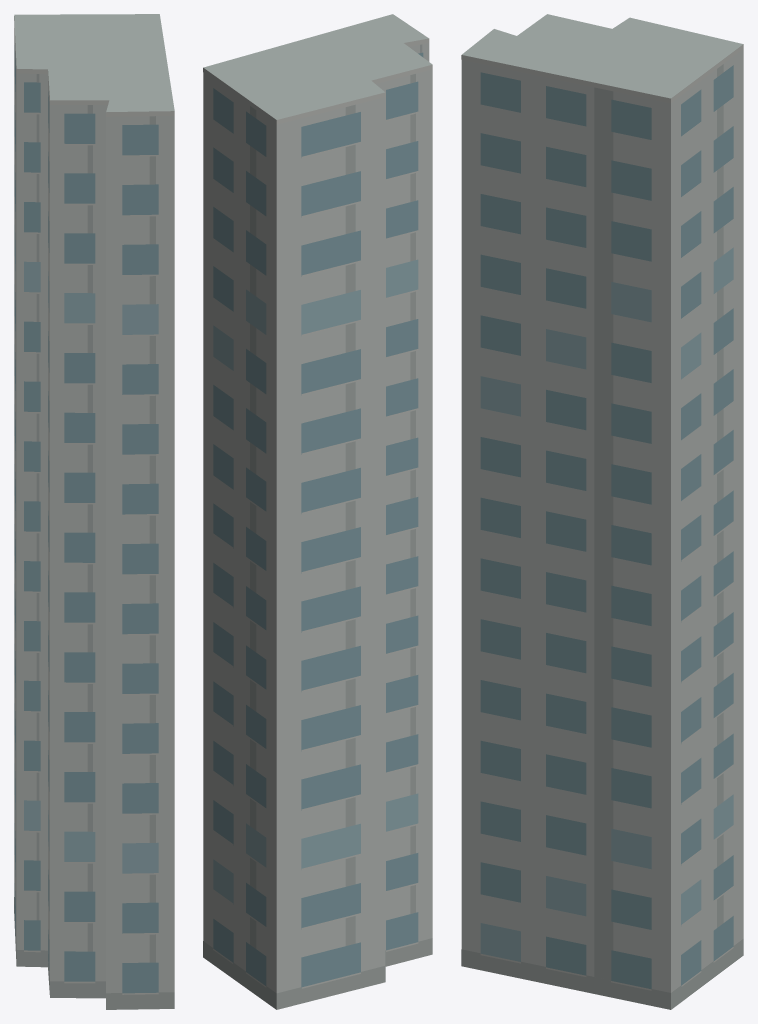
The model's file is survey-upis-32742575.glb.
3 views of the same model, side by side, from view 1: azimuth 30°, elevation 25°; view 2: azimuth 150°, elevation 25°; view 3: azimuth 270°, elevation 25° (orthographic). The views are drawn at different scales.
Parts seen in each view (by area): view 1: survey-upis-32742575.tmp; view 2: survey-upis-32742575.tmp; view 3: survey-upis-32742575.tmp.
Part boxes in pixels (left/top/right/bottom): survey-upis-32742575.tmp: left=14, top=14, right=174, bottom=1009; survey-upis-32742575.tmp: left=203, top=14, right=432, bottom=1009; survey-upis-32742575.tmp: left=461, top=14, right=743, bottom=1009.
Size of the model in its own units: 9.11 by 45.75 by 12.84.
